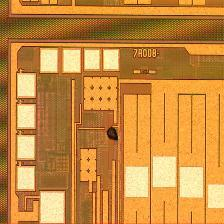PARTICLE: (104, 124, 124, 144)
